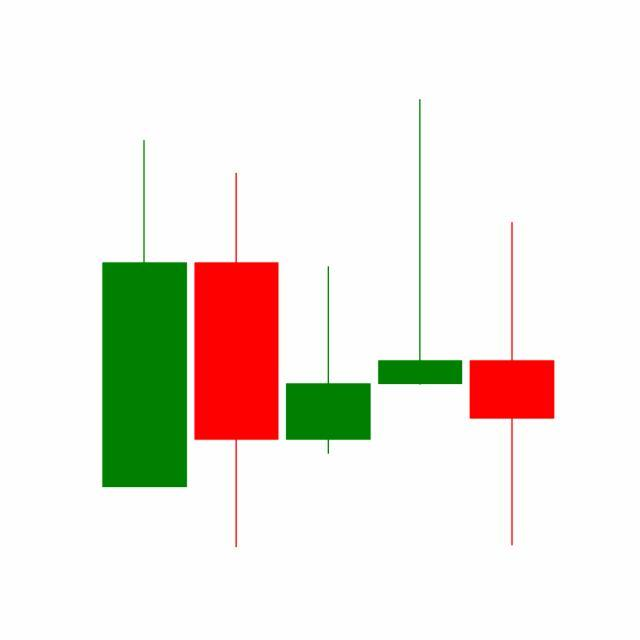Spinning Top: (466, 219, 559, 550)
